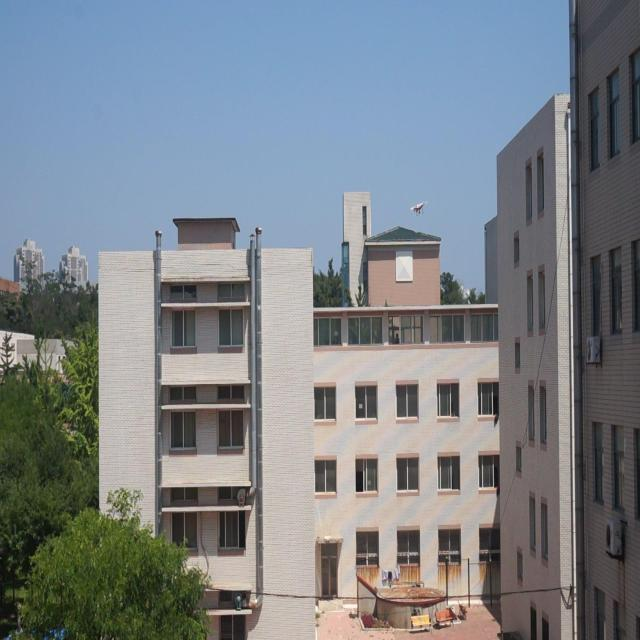drone: (409, 199, 425, 218)
